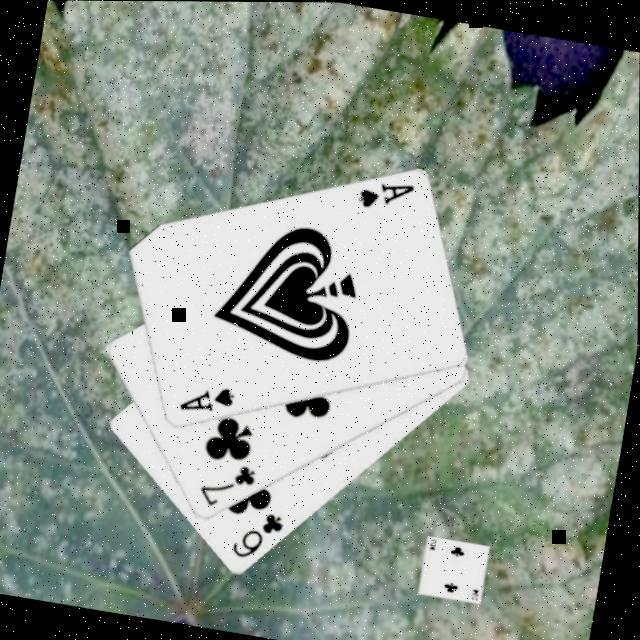6C: (228, 505, 290, 568)
7C: (195, 456, 261, 517)
AS: (354, 174, 419, 219), (176, 379, 239, 422)
